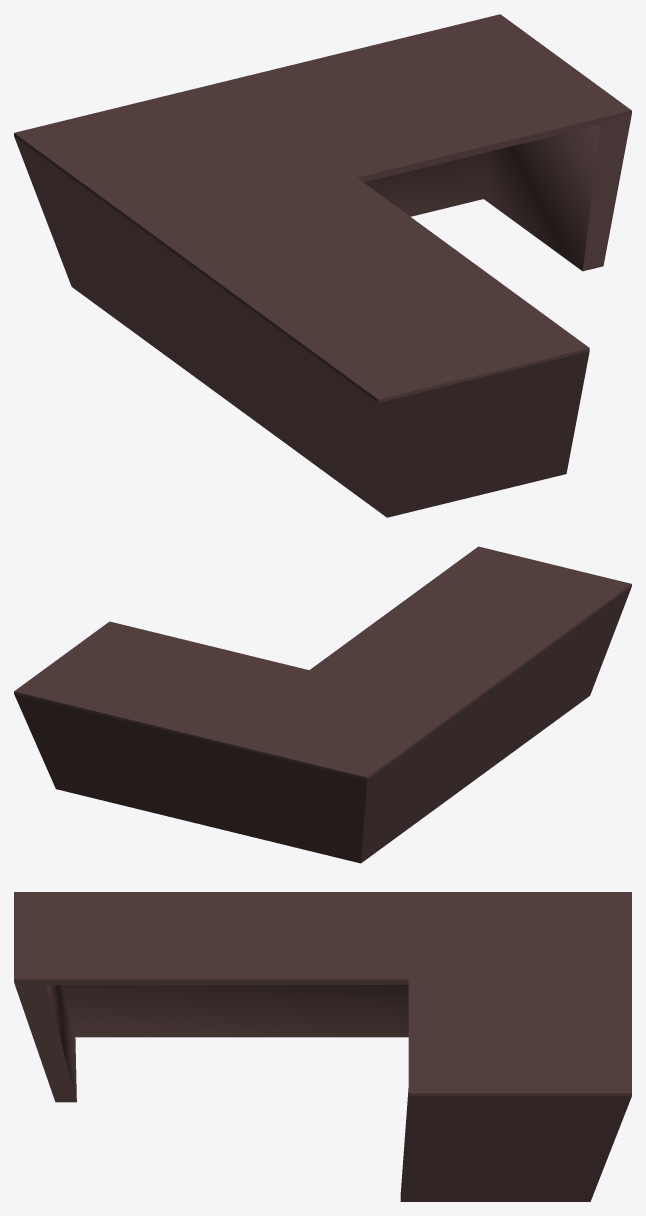
The model's file is desk.fbx.
3 renders of one model, top to bottom at view 1: azimuth 30°, elevation 25°; view 2: azimuth 150°, elevation 25°; view 3: azimuth 270°, elevation 25°, orthographic. The views are drawn at different scales.
Parts seen in each view (by area): view 1: pCube4; view 2: pCube4; view 3: pCube4.
Part boxes in pixels (x1,y1,x2,y2): pCube4: (14,14,631,517); pCube4: (14,546,631,863); pCube4: (14,892,631,1201).
Size of the model in its own units: 7.75 by 2.2 by 10.05.
